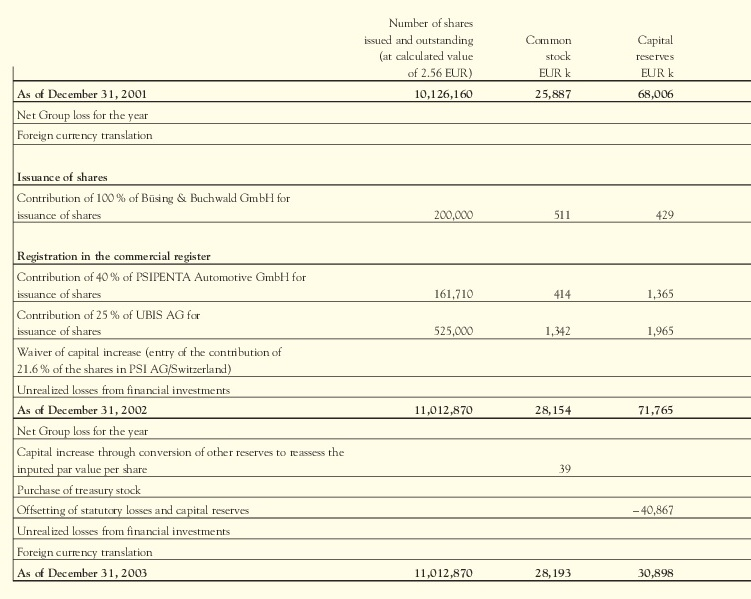table: (0, 0, 751, 599)
